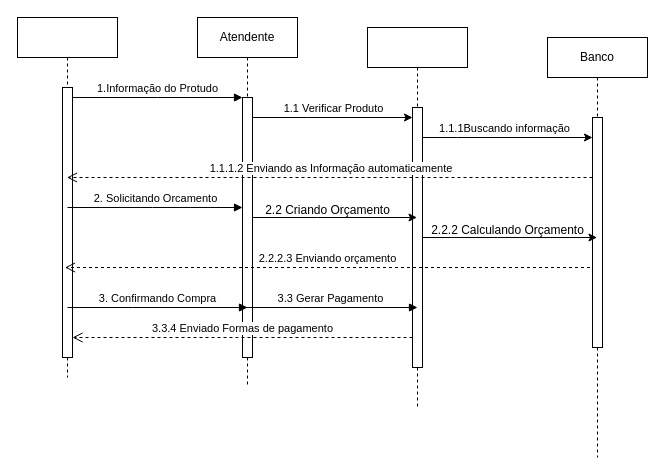
Image size: 665x475. Some labels were removed from this diagram. The shapes that lost their labels are listed below. From the top down, each one's box as (x1, y1, x2, y2) in pixels, then its label:
(16, 16, 118, 378): Cliente
(366, 26, 468, 408): Sistema
